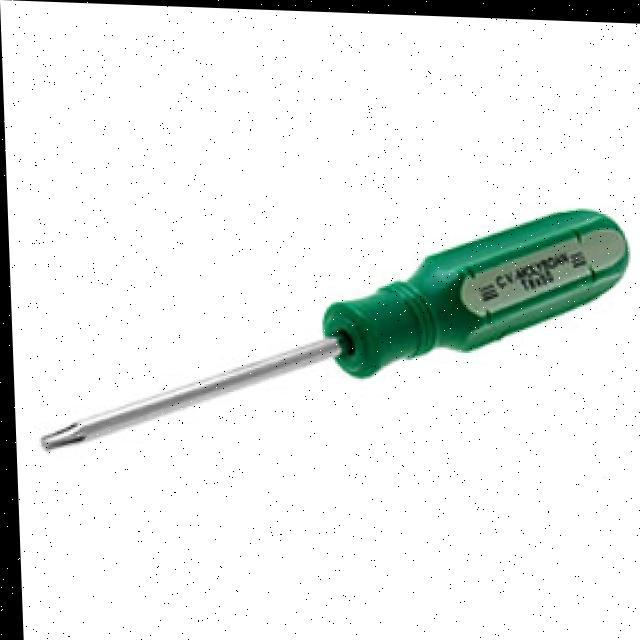Screwdriver: (39, 205, 626, 448)
